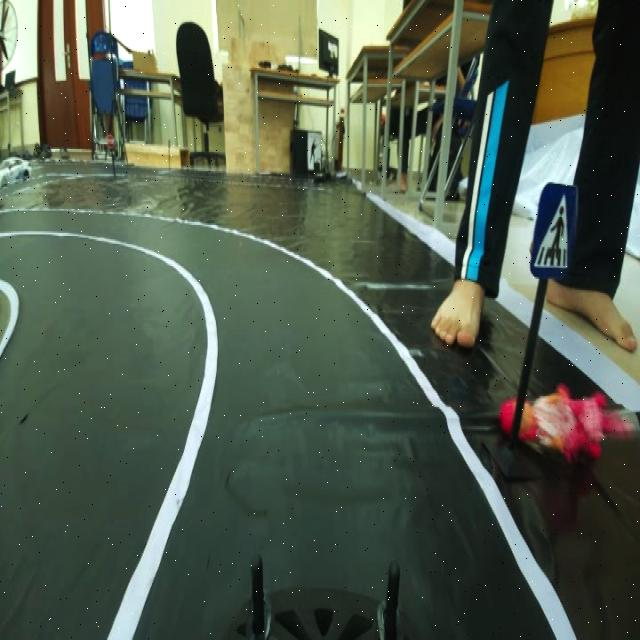crosswalk: (529, 178, 581, 284)
